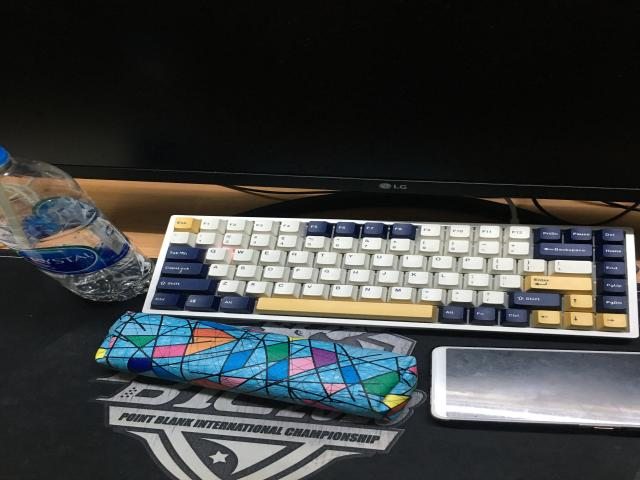Mobile phone: (432, 347, 640, 428)
bottle: (0, 148, 153, 302)
